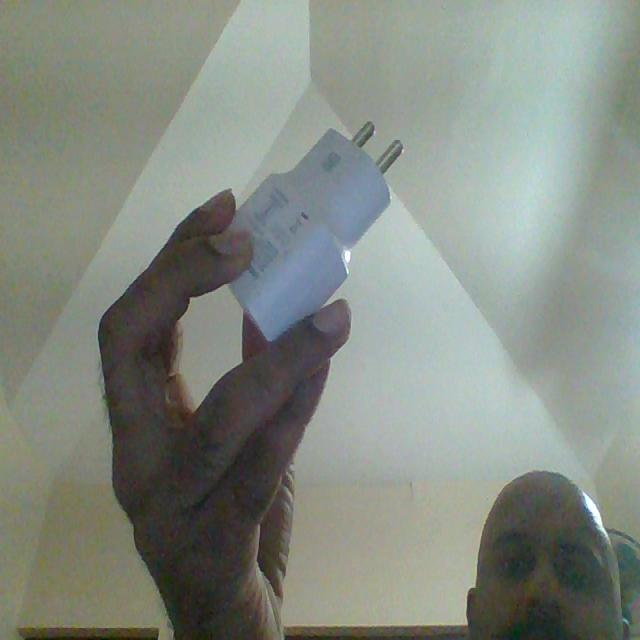charger: (230, 123, 402, 341)
